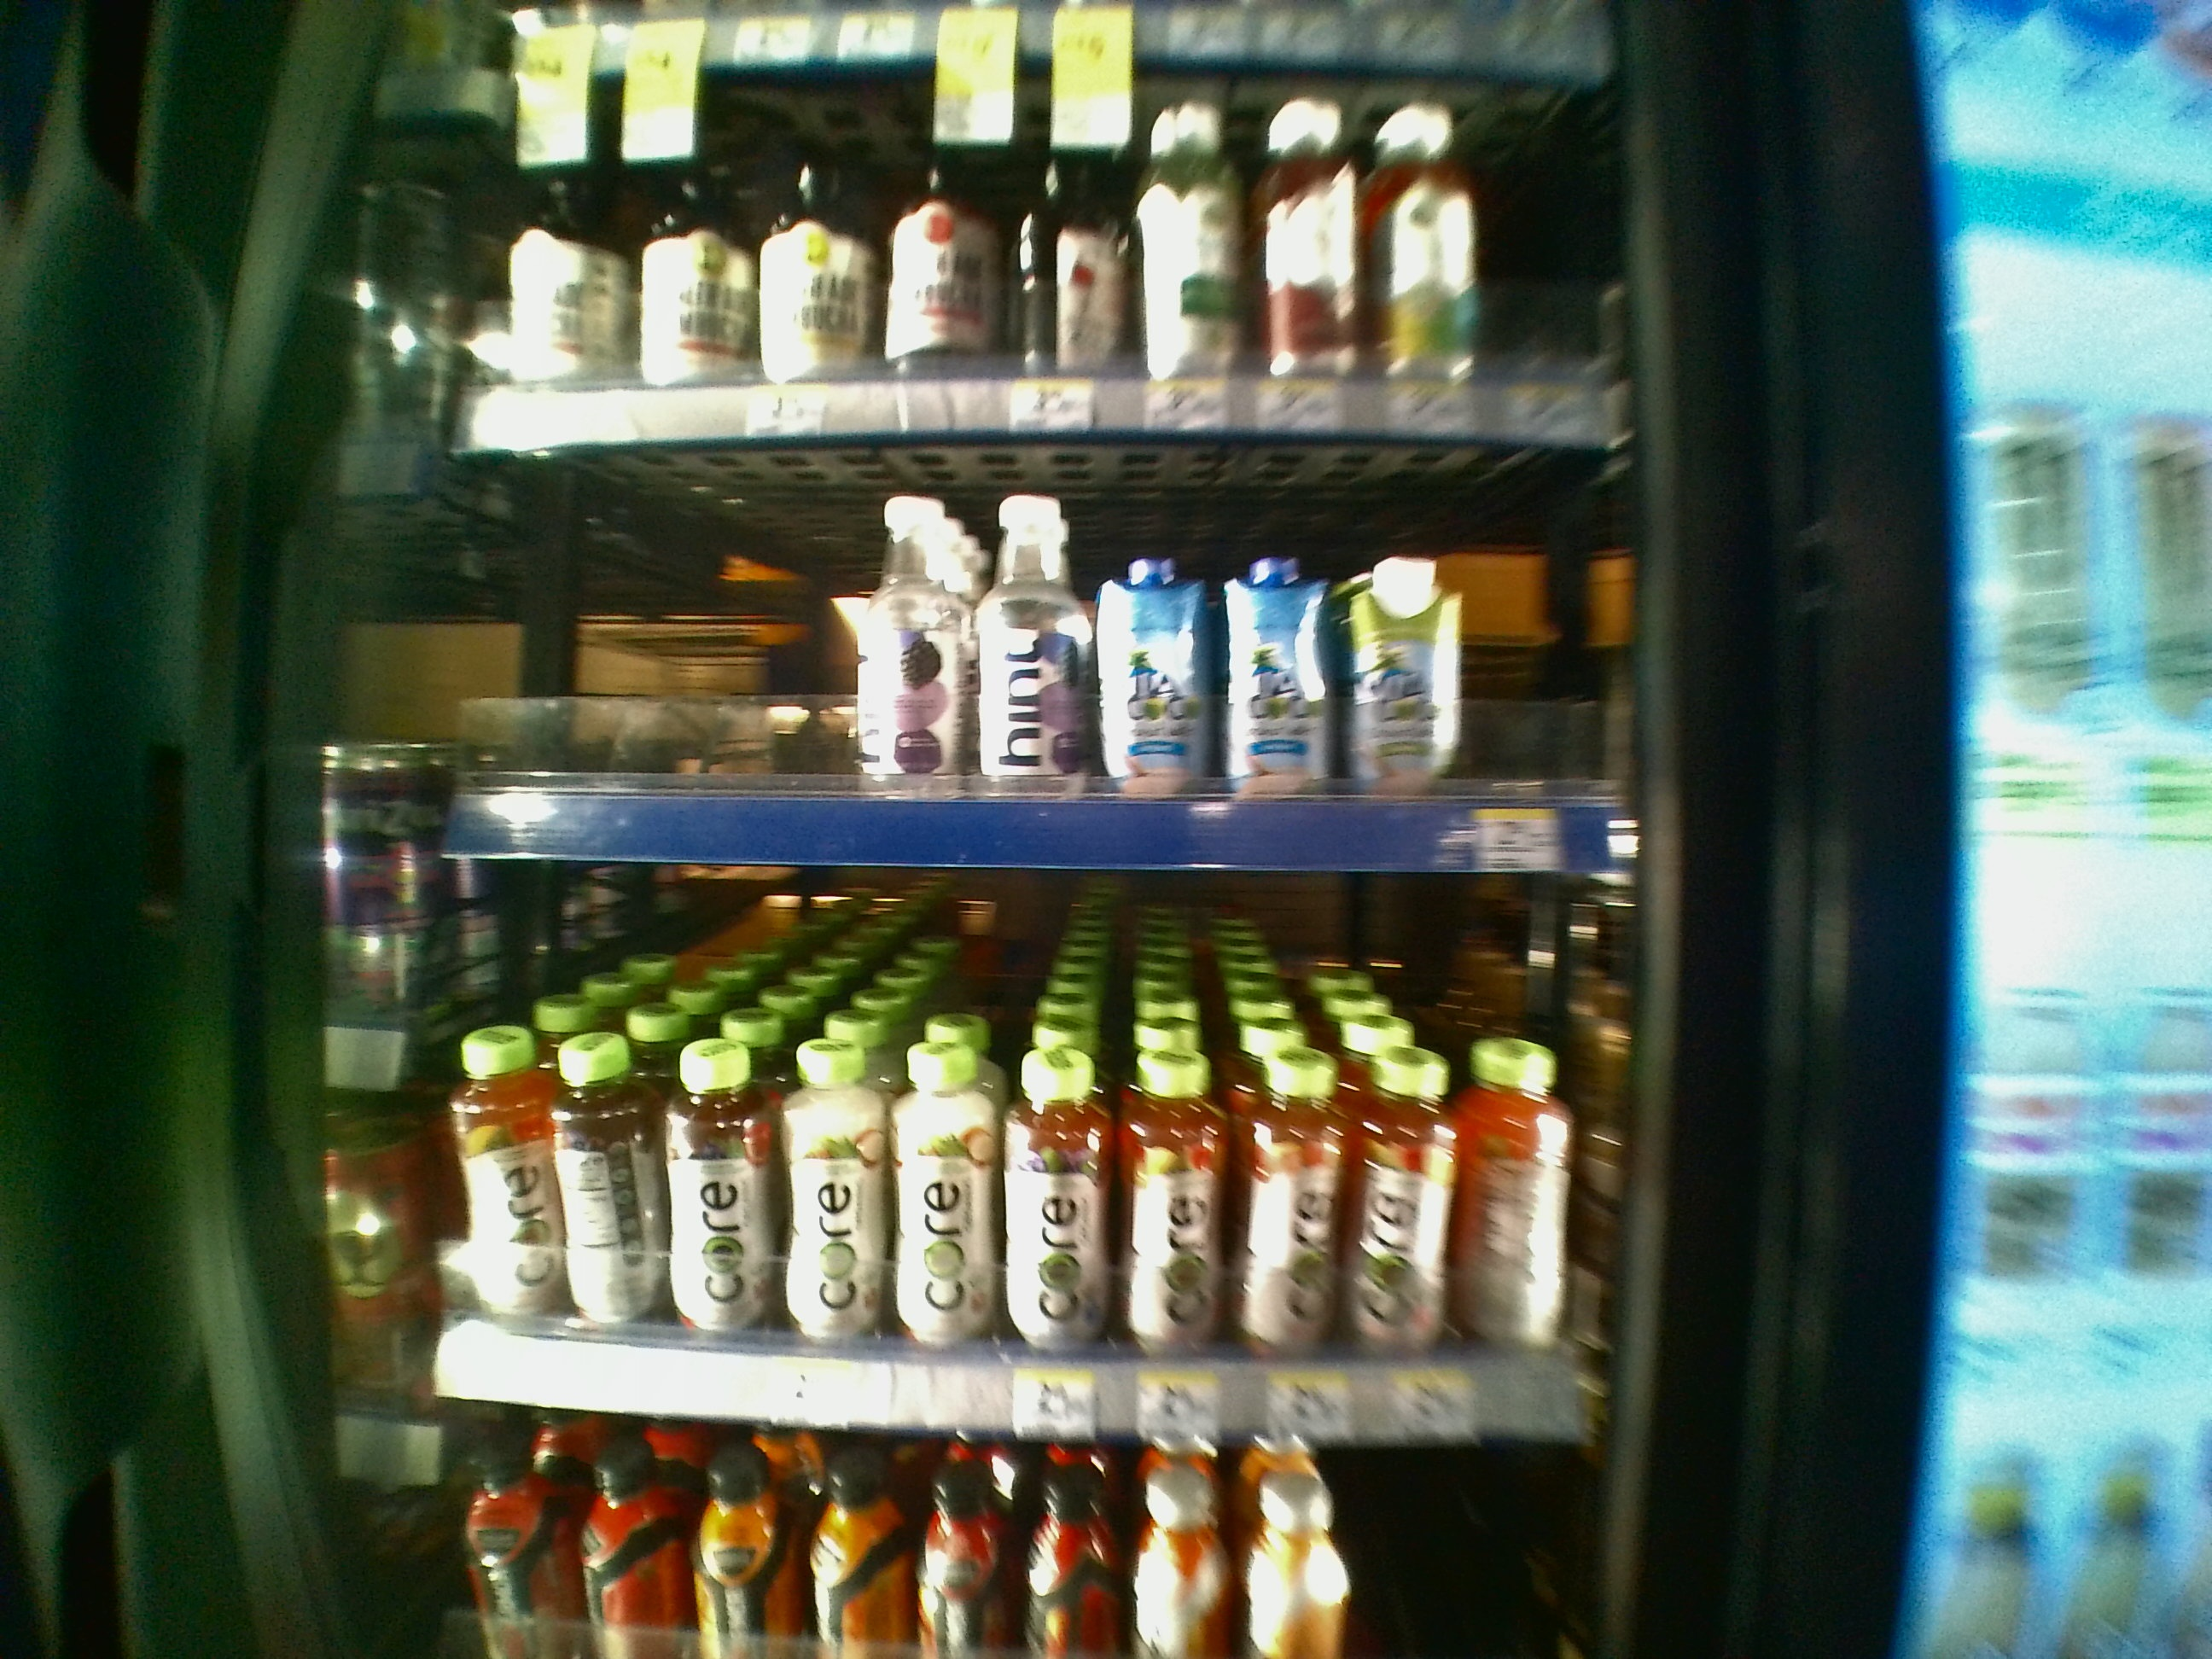shelf: (310, 861, 1646, 1441)
